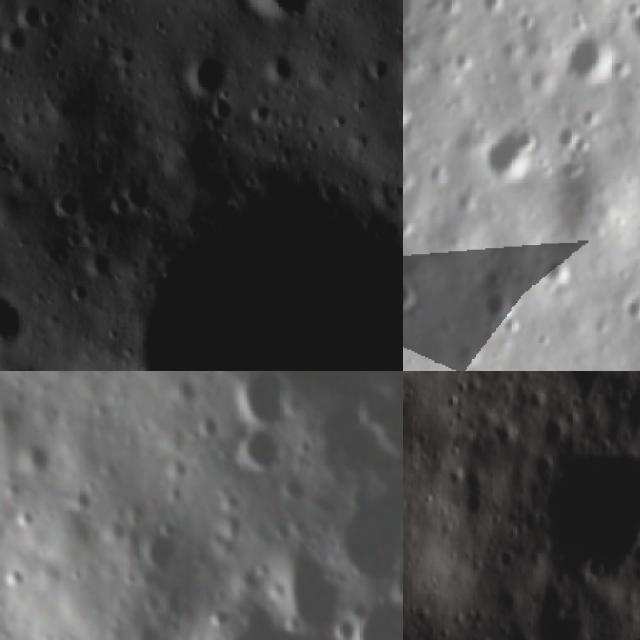crater: (107, 162, 403, 371), (538, 440, 640, 586), (474, 118, 549, 194), (554, 27, 620, 94), (179, 44, 238, 100), (234, 371, 289, 421), (223, 0, 328, 25), (0, 284, 31, 358), (229, 428, 282, 468), (481, 284, 524, 329), (258, 46, 300, 91), (143, 523, 179, 566), (9, 0, 52, 35), (542, 252, 578, 290), (550, 158, 588, 192), (403, 274, 432, 318), (0, 16, 29, 59), (356, 55, 395, 86), (622, 0, 640, 55), (403, 210, 424, 244), (622, 287, 640, 325), (568, 132, 594, 158), (477, 0, 514, 18), (403, 96, 417, 135), (580, 104, 601, 128), (469, 631, 501, 640)
